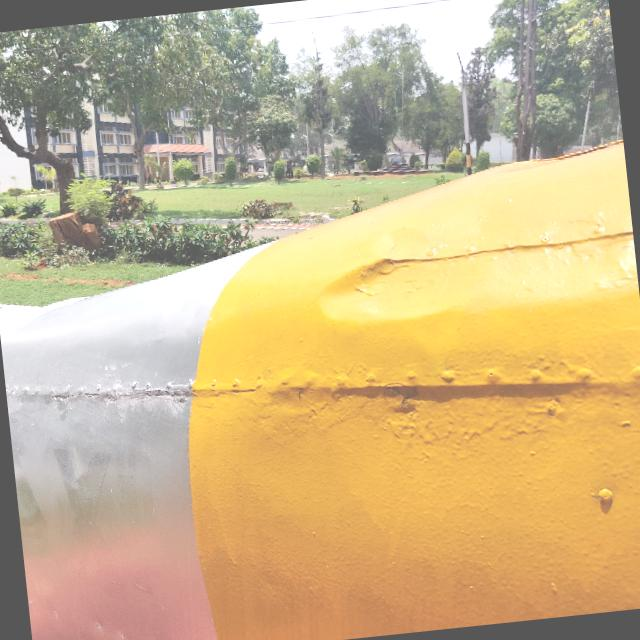dent: (279, 216, 483, 361)
